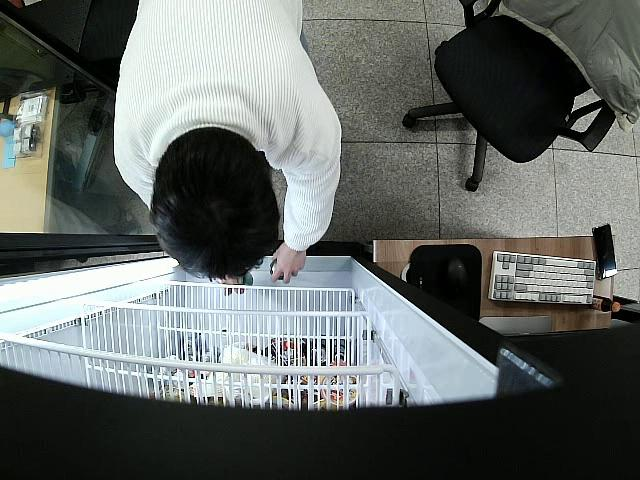00_hand: (271, 243, 305, 284)
12_chilsungCider: (232, 273, 256, 290)
